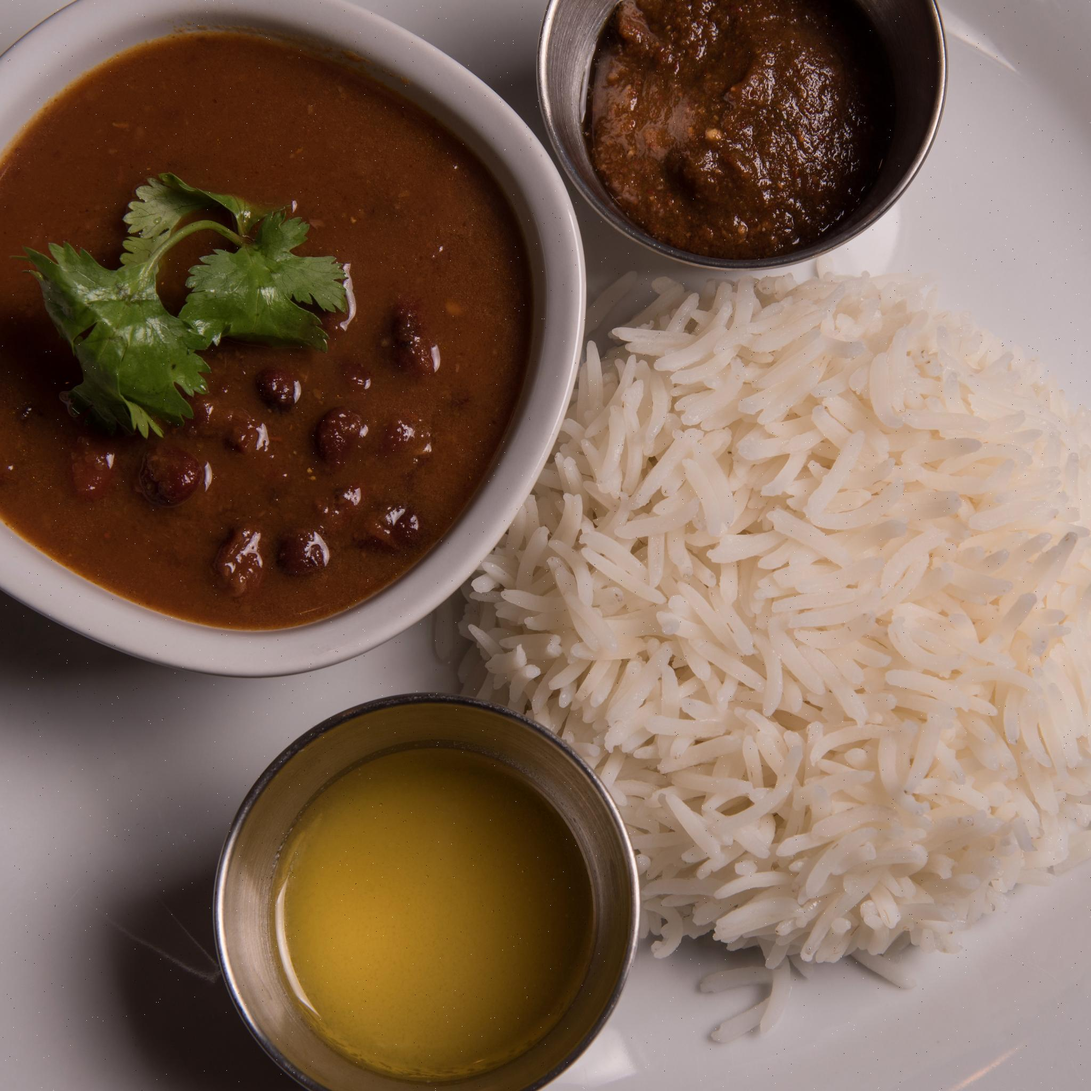rajma: (0, 40, 521, 651)
rice: (555, 348, 1091, 1008)
